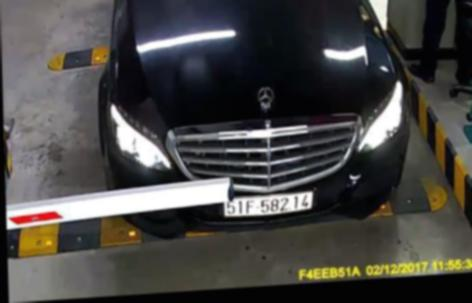License_Plate: (220, 189, 315, 220)
